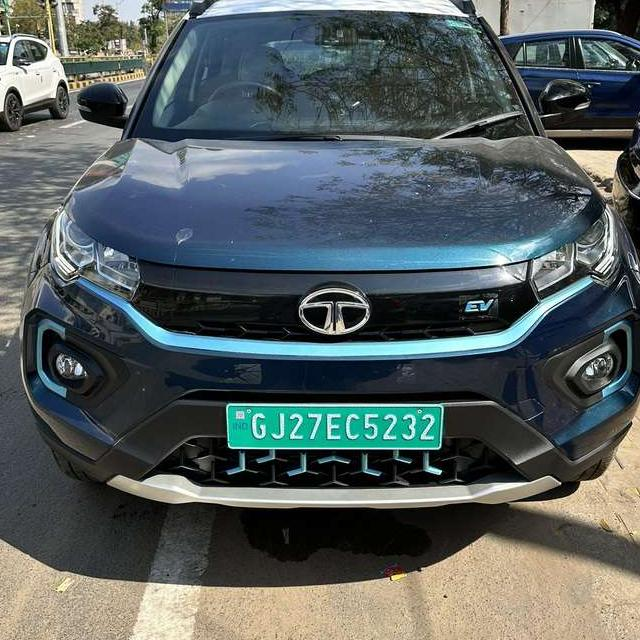Indian_Number_Plate: (226, 406, 442, 448)
